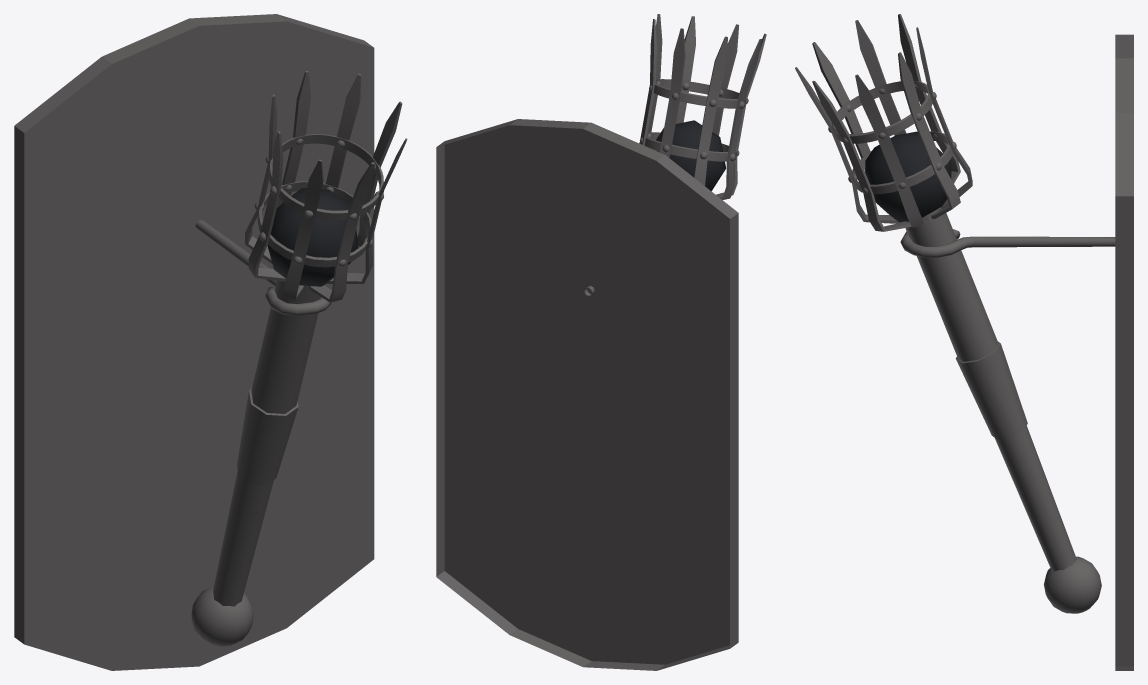
The model's file is wall_torch.gltf.
The picture shows the model from 3 angles, left to right: view 1: azimuth 30°, elevation 25°; view 2: azimuth 150°, elevation 25°; view 3: azimuth 270°, elevation 25°; orthographic projection. The views are drawn at different scales.
Parts seen in each view (by area): view 1: Hold, Torch, Sphere; view 2: Hold, Torch, Sphere; view 3: Torch, Hold, Sphere.
Part boxes in pixels (x1,y1,x2,y2): Hold: (14, 14, 374, 670); Torch: (191, 71, 407, 647); Sphere: (267, 188, 358, 286); Hold: (436, 119, 738, 670); Torch: (639, 14, 766, 199); Sphere: (656, 120, 725, 191); Torch: (795, 14, 1101, 613); Hold: (900, 34, 1133, 670); Sphere: (865, 131, 951, 222).
Bounding box in the file's own units: 0.4 × 0.7364 × 0.3649.
Materials: 2 (2 with a texture image).
